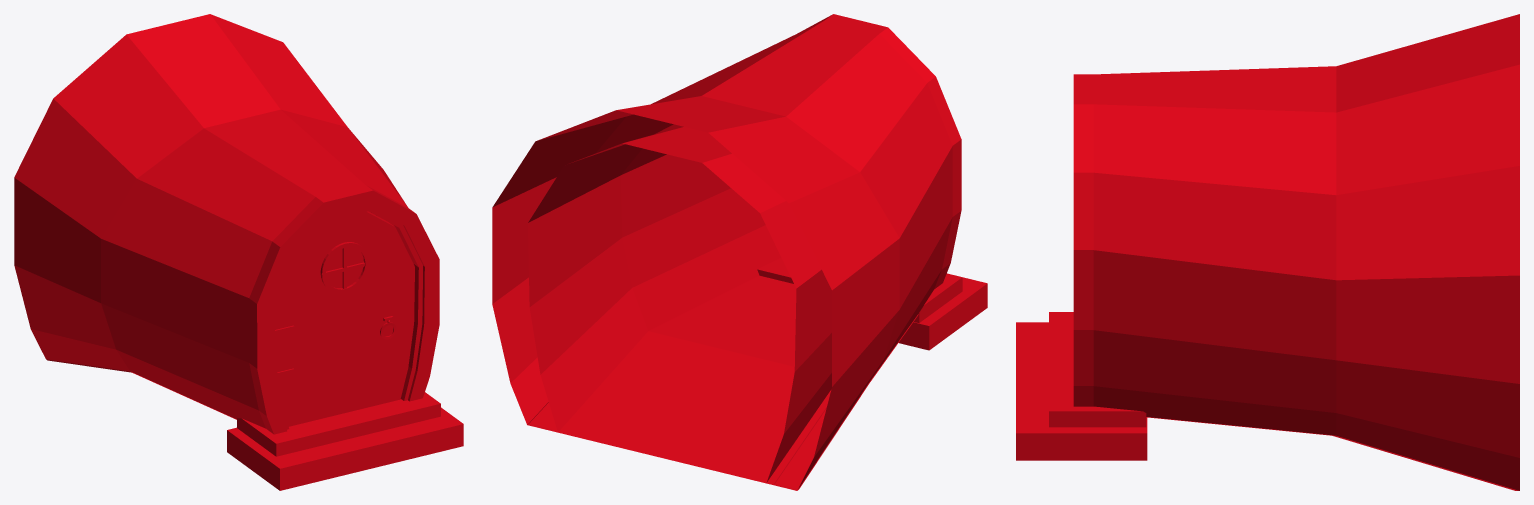
File: Porta_Sheep.fbx
The picture shows the model from 3 angles, left to right: view 1: azimuth 30°, elevation 25°; view 2: azimuth 150°, elevation 25°; view 3: azimuth 270°, elevation 25°; orthographic projection. The views are drawn at different scales.
Parts seen in each view (by area): view 1: Cube.014; view 2: Cube.014; view 3: Cube.014.
Boxes of the visible parts, box(x1,y1,x2,y2) form: Cube.014: box(14, 14, 463, 490); Cube.014: box(492, 14, 987, 490); Cube.014: box(1016, 14, 1519, 490).
Size of the model in its own units: 842 by 797 by 963.
